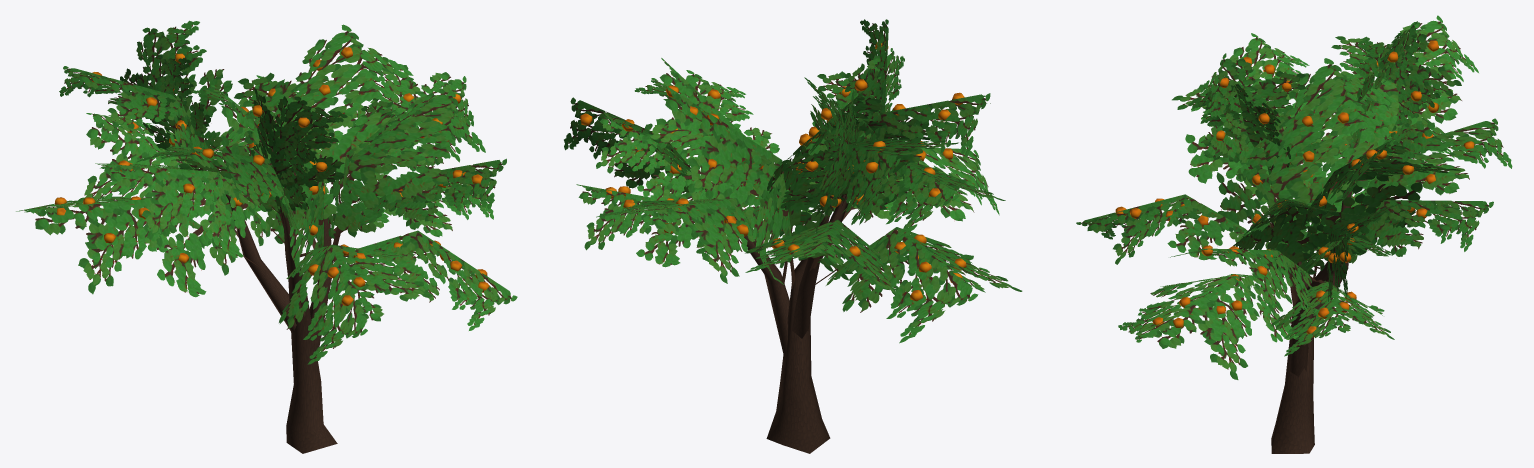
Rendered from Tangerine01.fbx.
3 views of the same model, side by side, from view 1: azimuth 30°, elevation 25°; view 2: azimuth 150°, elevation 25°; view 3: azimuth 270°, elevation 25° (orthographic). The views are drawn at different scales.
Parts seen in each view (by area): view 1: Tangerine01; view 2: Tangerine01; view 3: Tangerine01.
Boxes of the visible parts, x1,y1,x2,y2 form: Tangerine01: [16, 20, 517, 453]; Tangerine01: [564, 19, 1022, 453]; Tangerine01: [1076, 15, 1512, 453].
Bounding box in the file's own units: 595 × 515 × 532.
